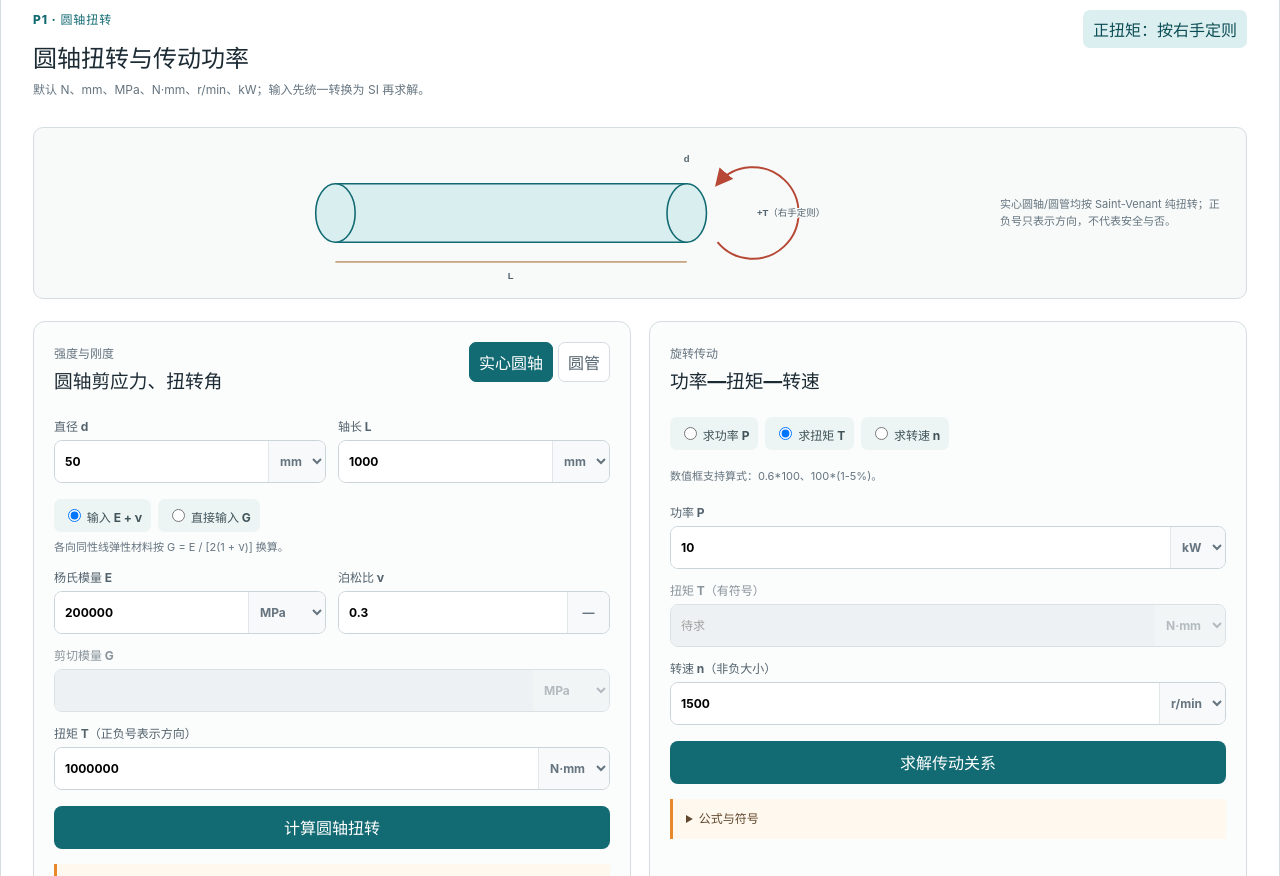
Scenario: TorsionCalculator › calculates default solid shaft and displays engineering conclusions
What coordinates should you click on to do the following:
click the button with class "calculate" showing "计算圆轴扭转"
I would click on:
 (332, 827)
Its box is 54,806 -> 610,848.
(page scrolled)
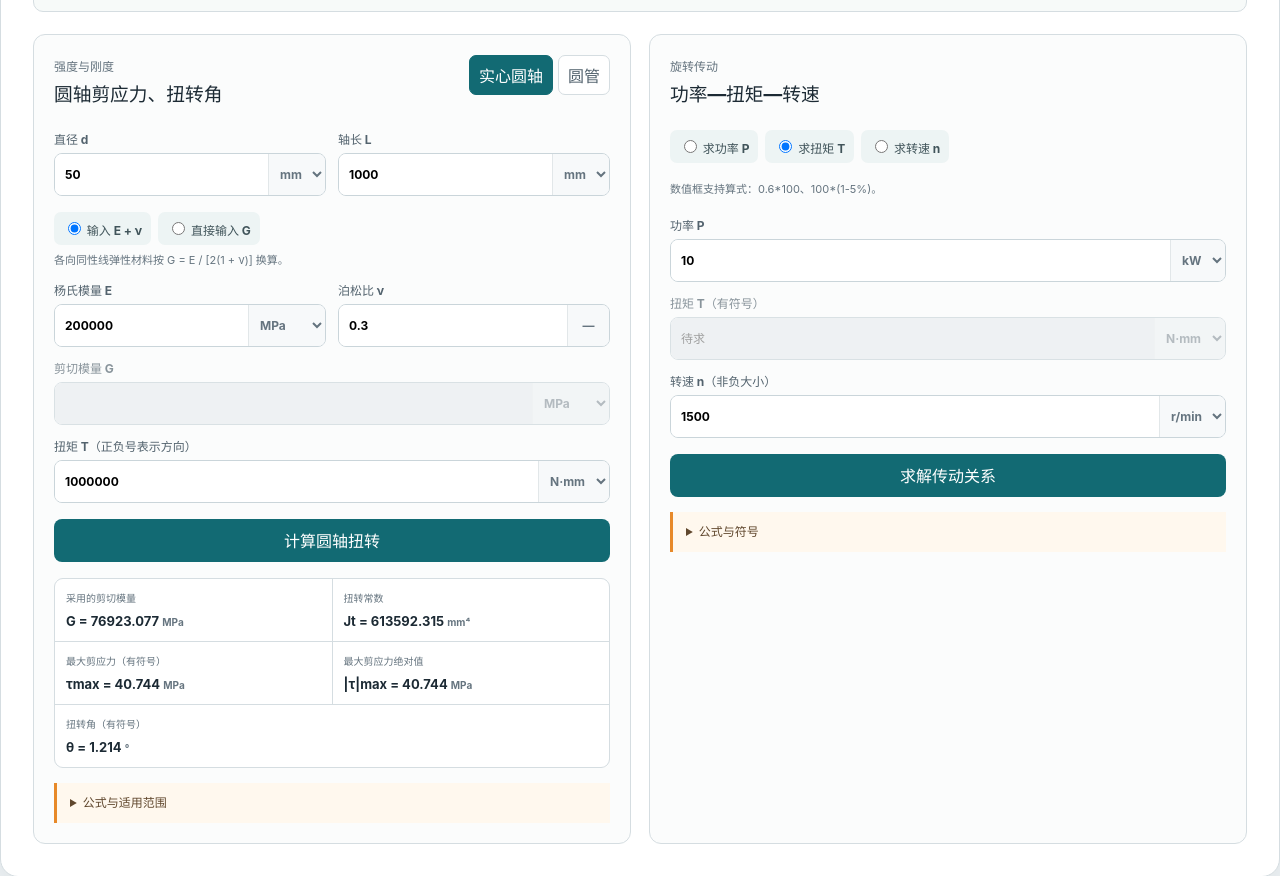
expect the element with test id "shaft-results" shows "τmax": met, box 66,676 -> 163,692
expect the element with test id "shaft-results" shows "40.744": met, box 66,676 -> 163,692
expect the element with test id "shaft-results" shows "1.214": met, box 66,738 -> 125,754
